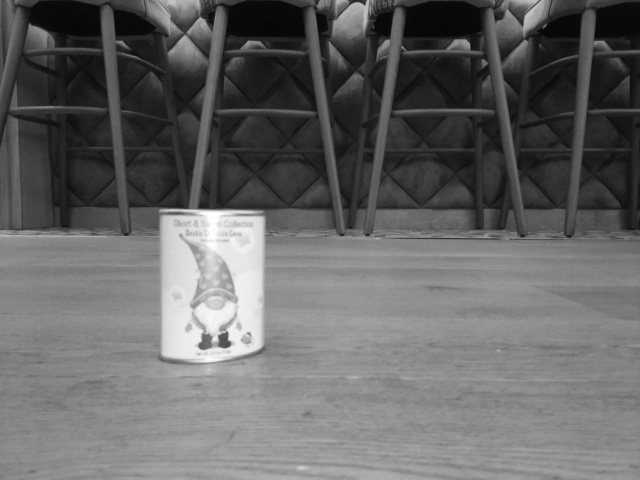gnome: (169, 230, 257, 353)
